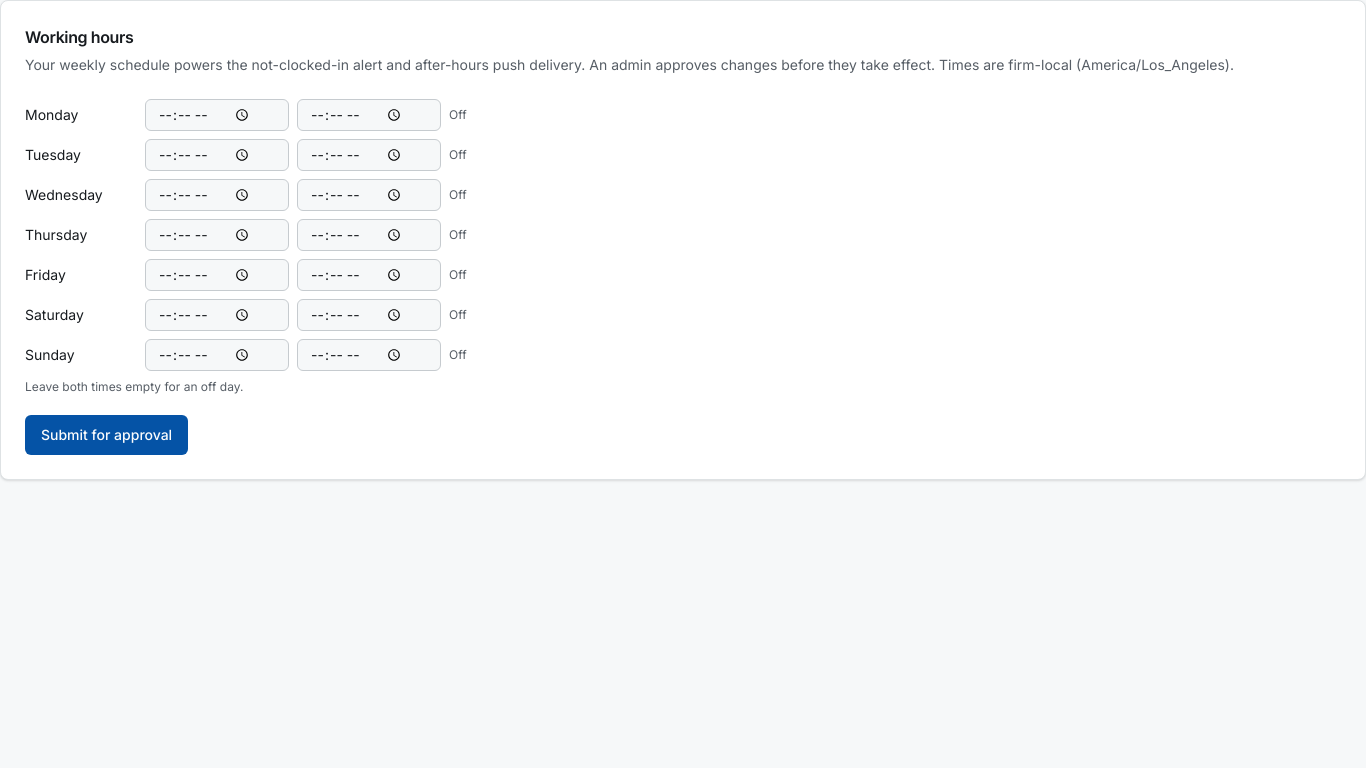
WorkingHoursSettings › shows the server error verbatim when the submit fails
In the time field named "Monday start": (217, 115) [145, 99, 289, 131], type "09:00"
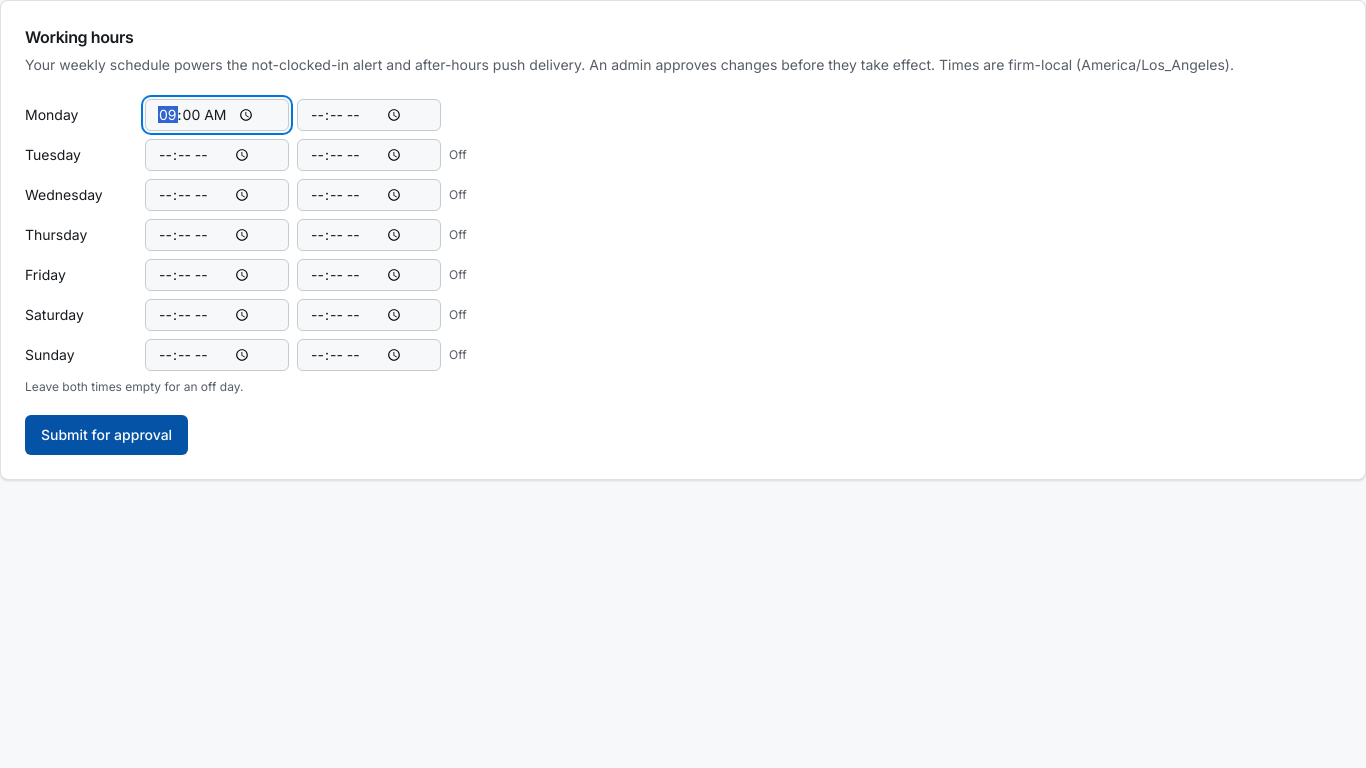
In the time field named "Monday end": (369, 115) [297, 99, 441, 131], type "17:00"
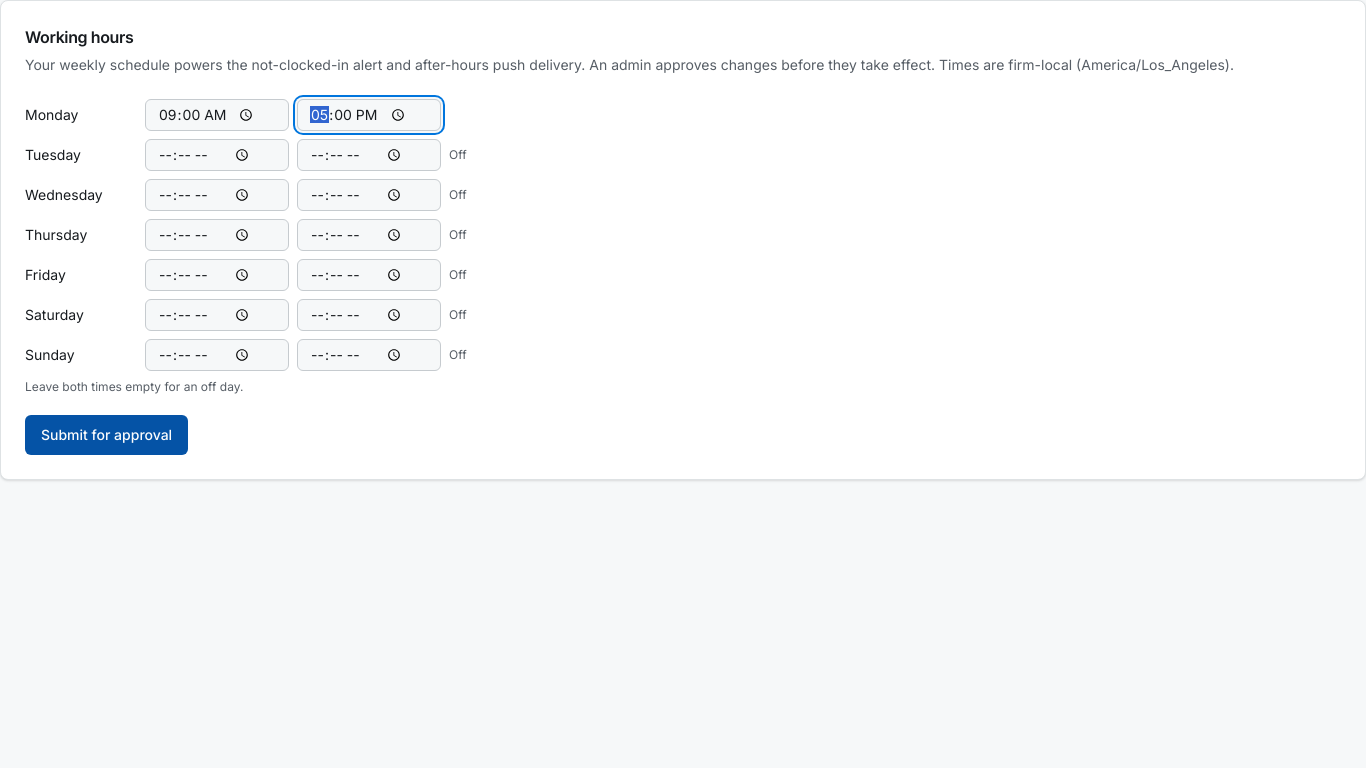
Click the button with test id "working-hours-submit": (107, 435) [25, 415, 188, 455]
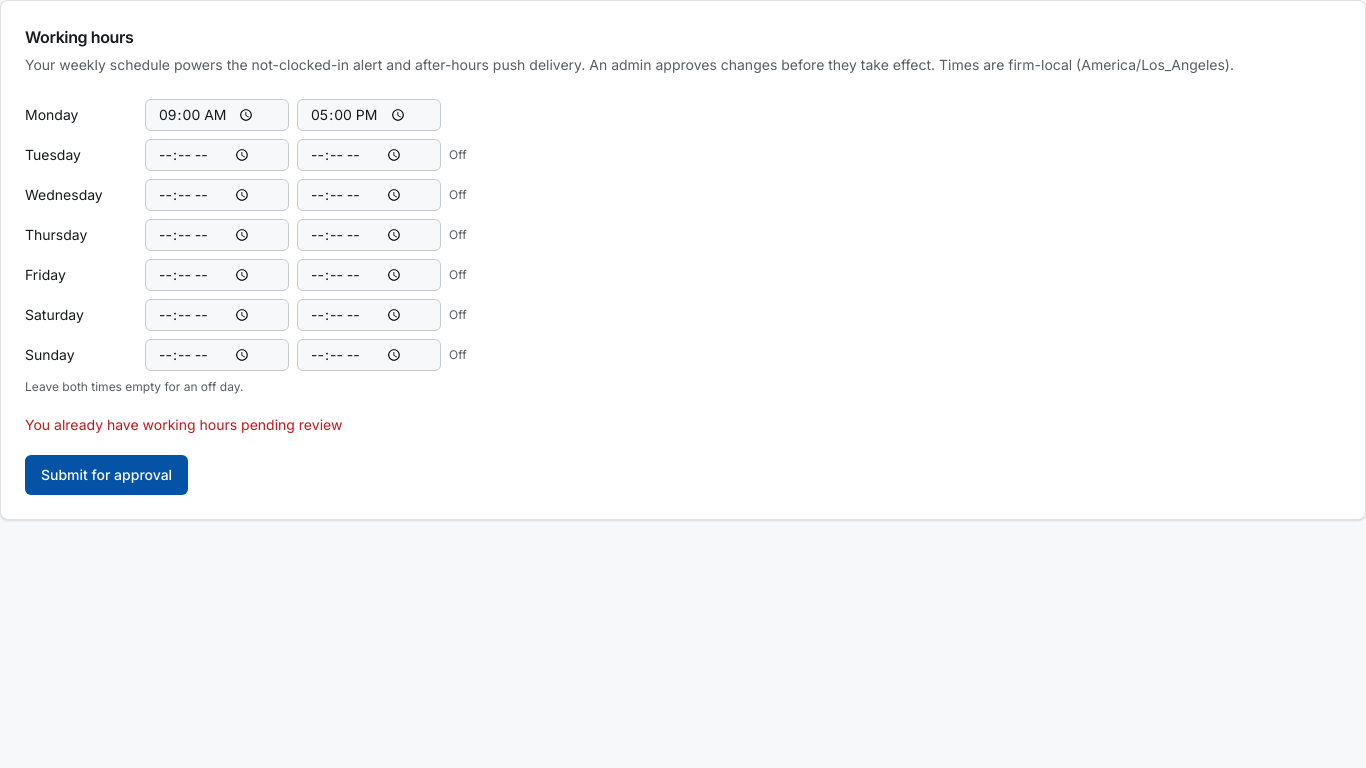
Expected: the message reads "You already have working hours pending review", [25, 416, 342, 433]
